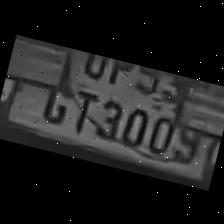0: (114, 96, 154, 148), (141, 106, 178, 158)
3: (89, 88, 126, 142)
9: (166, 114, 206, 167)
G: (33, 76, 75, 126)
P: (100, 56, 135, 92)
T: (66, 82, 100, 136)
U: (75, 50, 110, 84)
